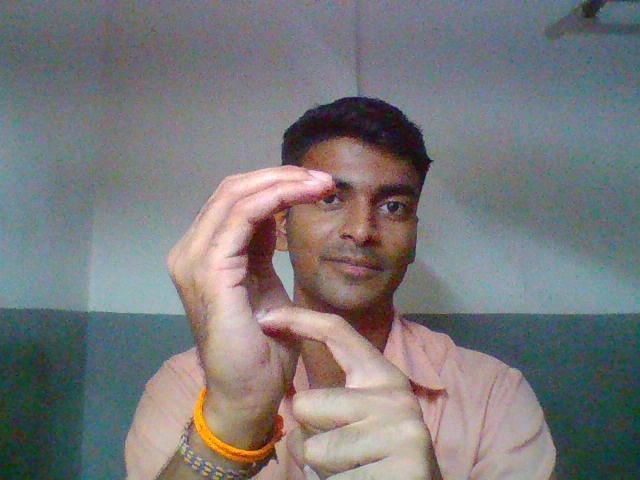G: (150, 157, 457, 480)
